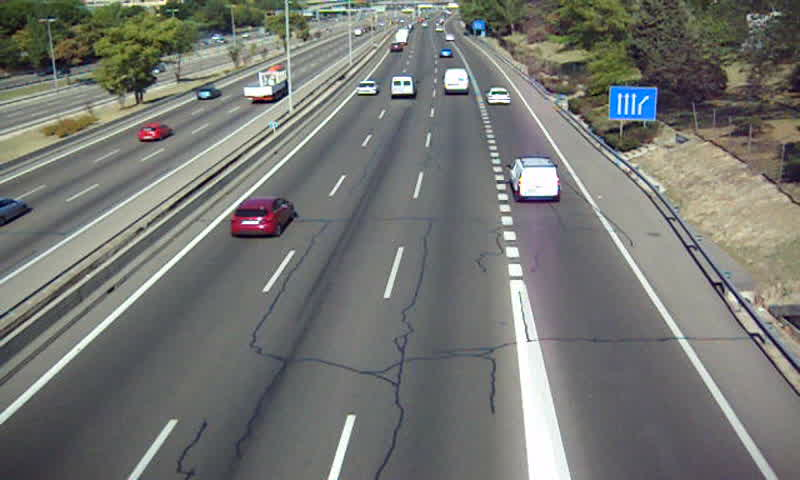car: (230, 196, 295, 235), (486, 87, 512, 106), (355, 80, 378, 97)
van: (512, 157, 561, 201), (444, 68, 471, 95), (393, 76, 416, 98)
